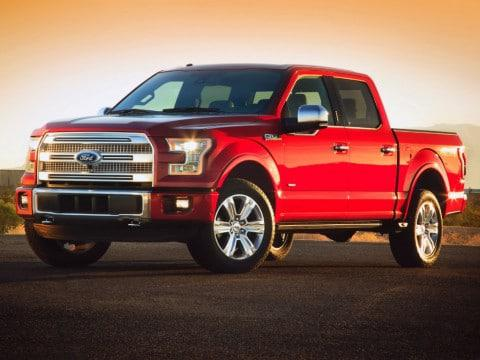car: (13, 59, 471, 299)
